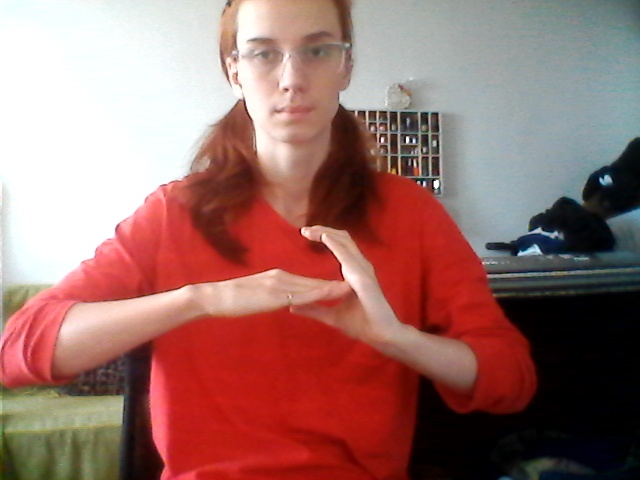e: (223, 217, 403, 363)
